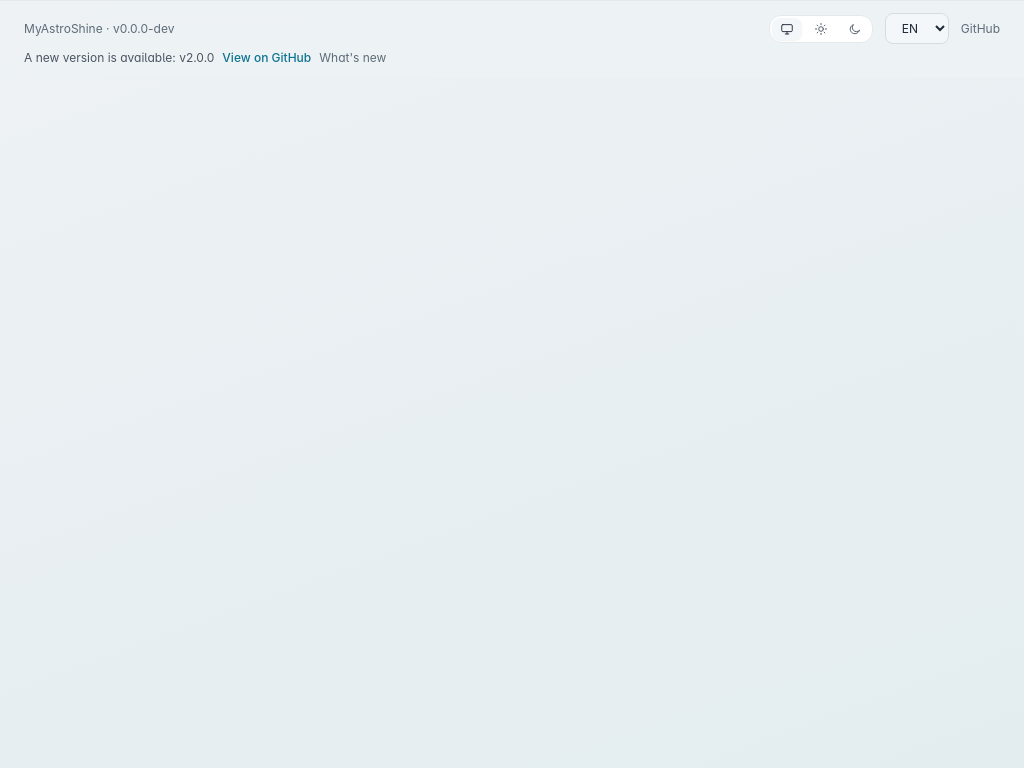
Footer › falls back to the version number as the modal release name when unset
The width and height of the screenshot is (1024, 768).
Expected: the text "A new version is available: v2.0.0" is shown, [24, 50, 214, 66]
Click the button "What's new".
click(353, 58)  # box [319, 50, 386, 66]
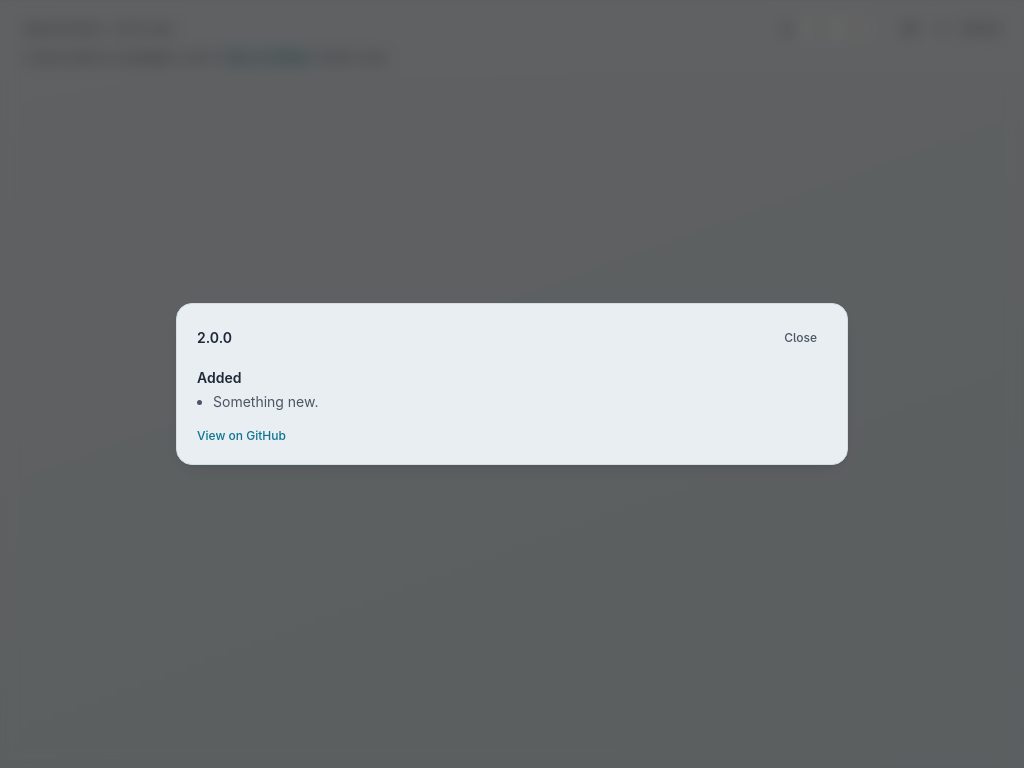
Now the heading "2.0.0" is shown, box [197, 328, 232, 348]
